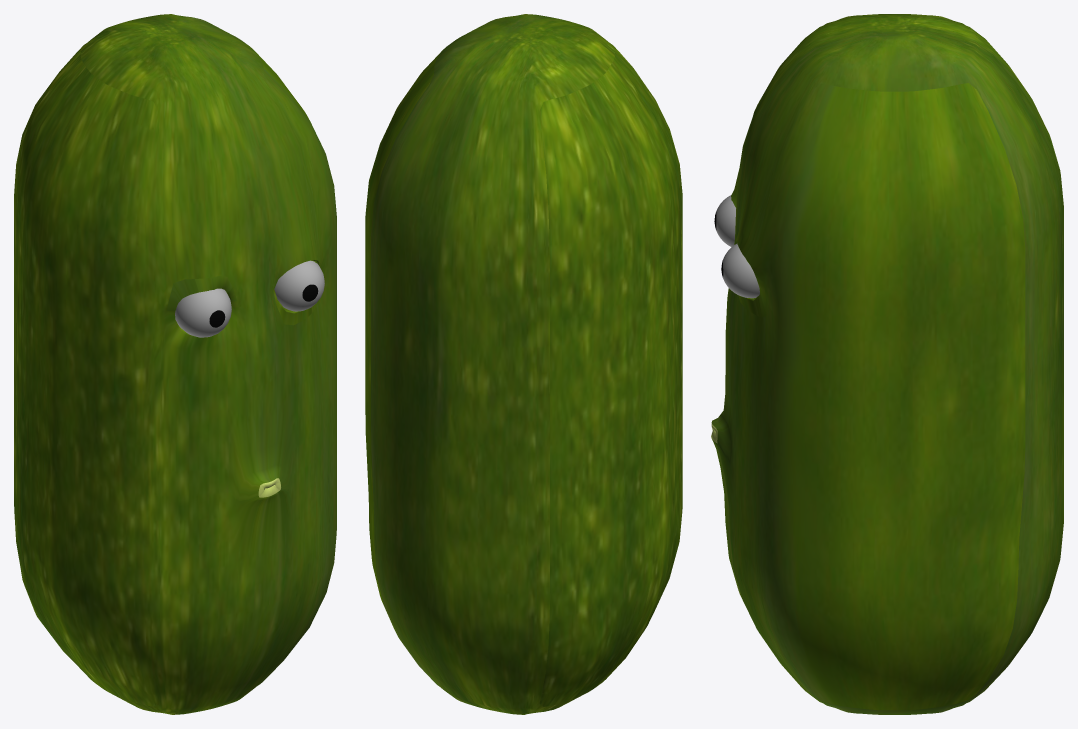
The model's file is cucumberMonster.fbx.
3 renders of one model, left to right at view 1: azimuth 30°, elevation 25°; view 2: azimuth 150°, elevation 25°; view 3: azimuth 270°, elevation 25°, orthographic. The views are drawn at different scales.
Parts seen in each view (by area): view 1: sea_cucumber, left_eye, right_eye; view 2: sea_cucumber; view 3: sea_cucumber, right_eye, left_eye.
Part boxes in pixels (x1,y1,x2,y2): sea_cucumber: (14,14,336,714); left_eye: (175,288,231,337); right_eye: (274,260,324,311); sea_cucumber: (365,14,682,714); sea_cucumber: (711,14,1063,714); right_eye: (721,243,759,298); left_eye: (714,195,735,246).
Size of the model in its own units: 5.9 by 14.18 by 6.74.
4 materials, 2 textured.
